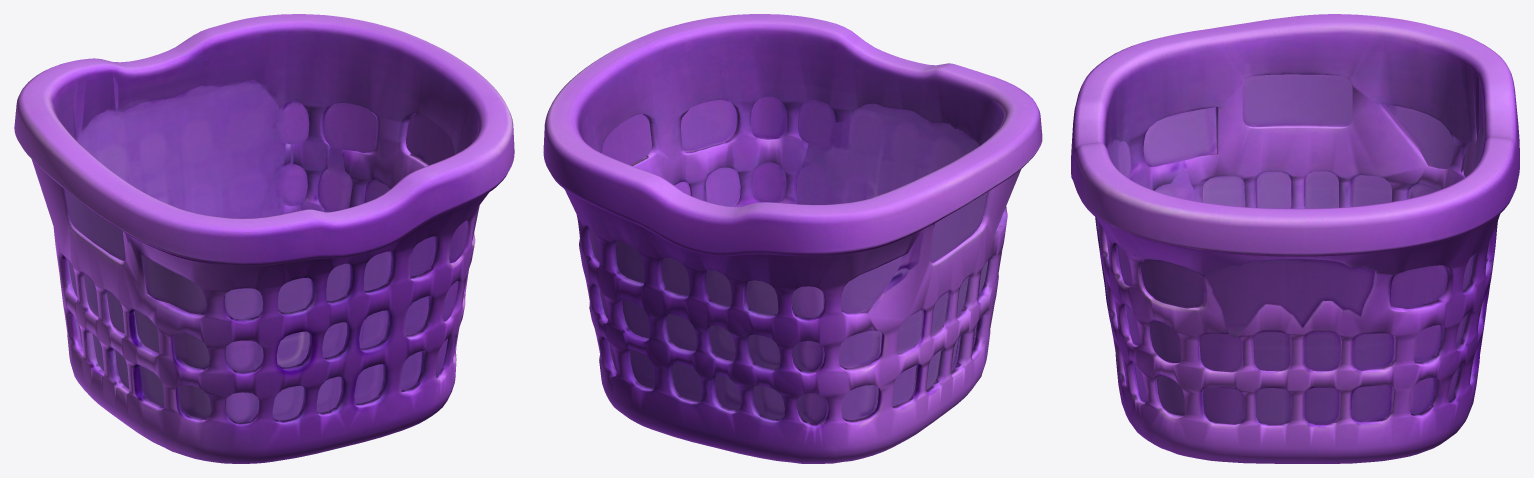
The model's file is basket_tripo.glb.
3 renders of one model, left to right at view 1: azimuth 30°, elevation 25°; view 2: azimuth 150°, elevation 25°; view 3: azimuth 270°, elevation 25°, orthographic. The views are drawn at different scales.
Visible parts, largest first — view 1: tripo_node_1098cfad-ddac-407f-a5b8-91d28650e772; view 2: tripo_node_1098cfad-ddac-407f-a5b8-91d28650e772; view 3: tripo_node_1098cfad-ddac-407f-a5b8-91d28650e772.
Boxes of the visible parts, <box> form: tripo_node_1098cfad-ddac-407f-a5b8-91d28650e772: <box>14,14,514,463</box>; tripo_node_1098cfad-ddac-407f-a5b8-91d28650e772: <box>543,14,1042,463</box>; tripo_node_1098cfad-ddac-407f-a5b8-91d28650e772: <box>1071,14,1519,463</box>.
Size of the model in its own units: 0.9995 by 0.6665 by 0.9263.
1 material, 1 textured.
